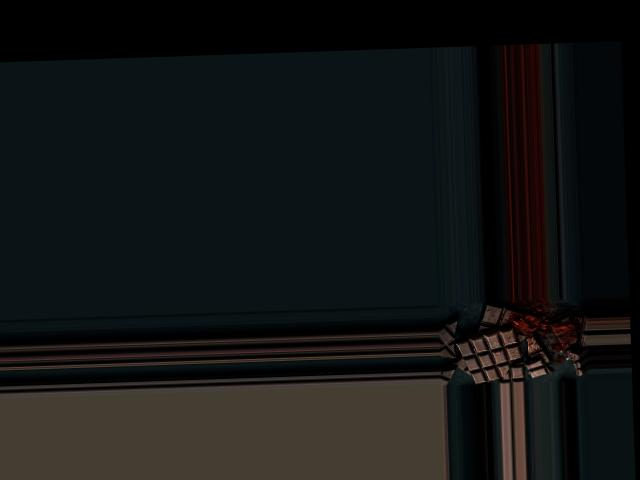chocolate: (453, 326, 522, 384)
